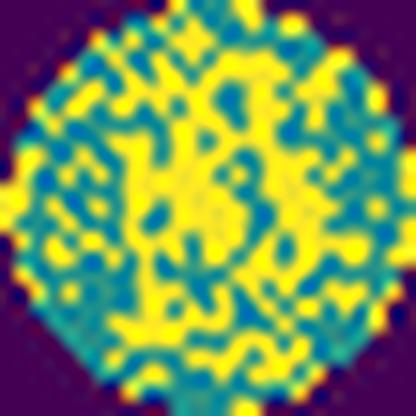Random: (0, 0, 415, 397)
